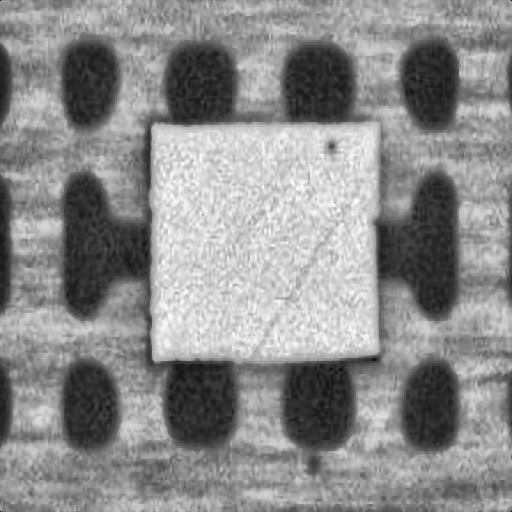DIE_CRACK: (250, 156, 374, 345)
